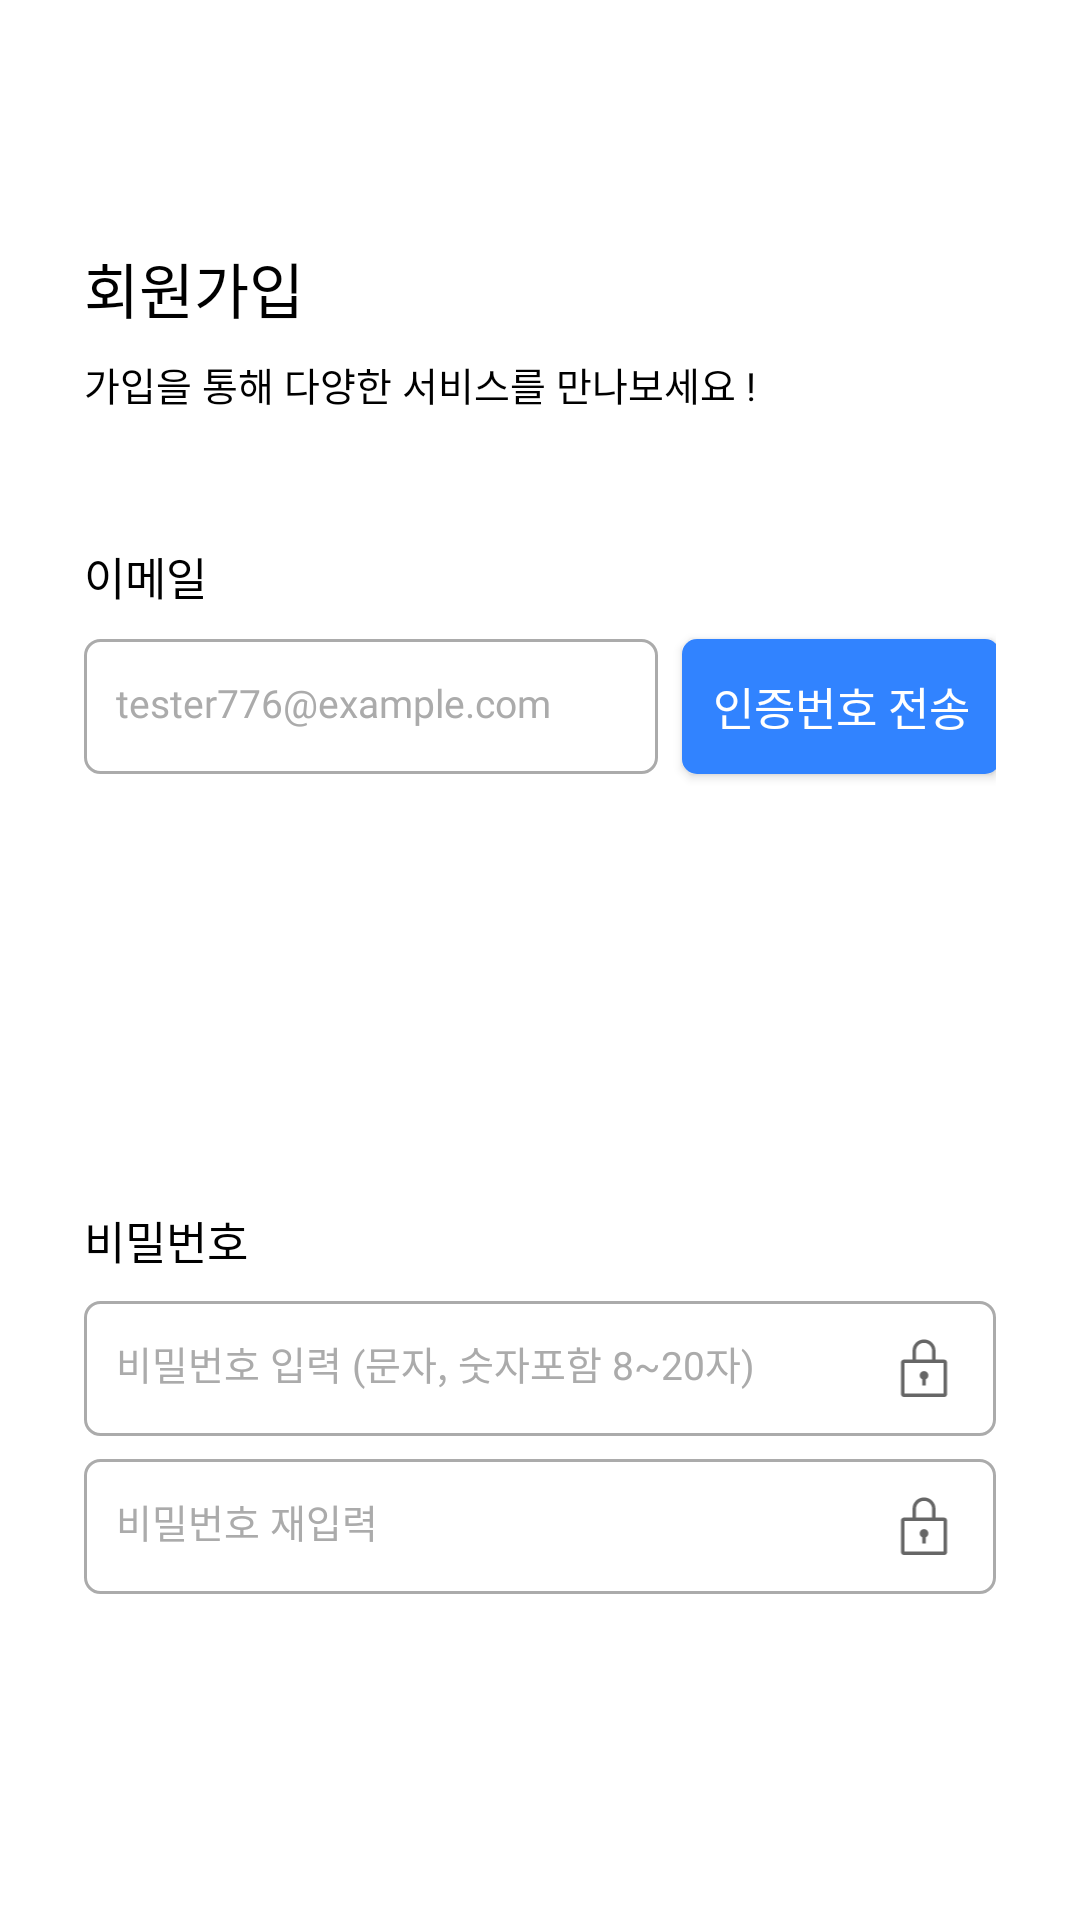

Icon bounding boxes for this 1080px×1920px phone screenshot, format (x1, y1, x2, y2):
lock: (900, 1339, 948, 1397), (900, 1497, 948, 1555)
